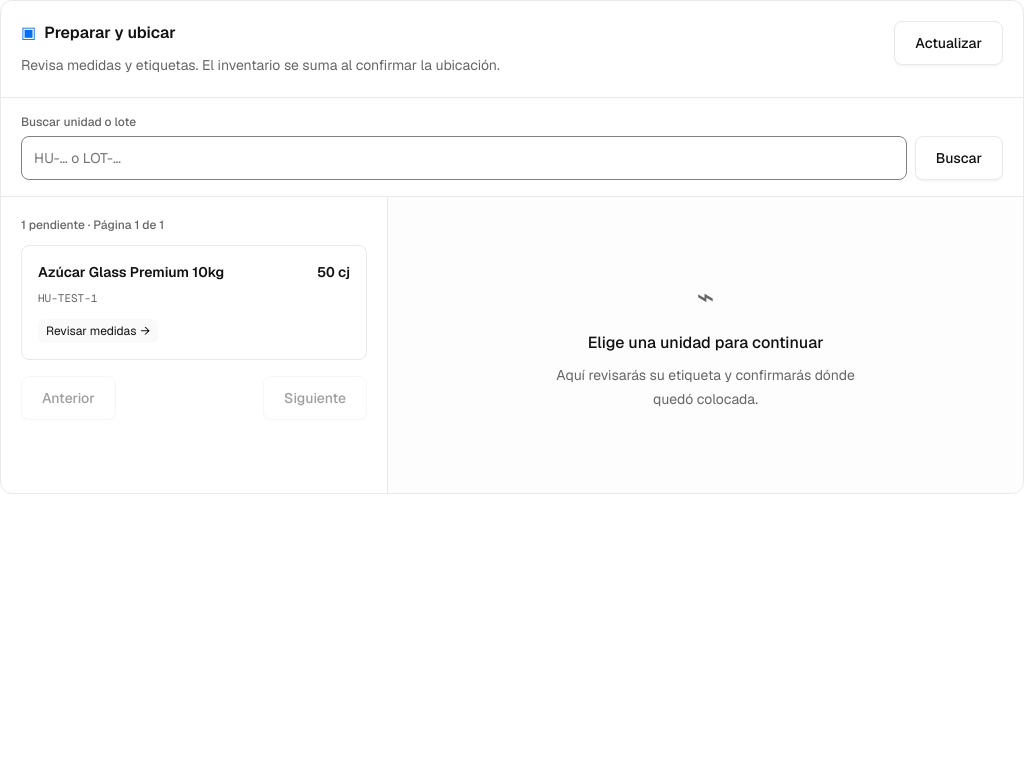
Test case: preparación del bodeguero › conserva el código automático al pasar de medidas a etiqueta
The width and height of the screenshot is (1024, 768).
Click the button "Azúcar Glass Premium 10kg 50 cj HU-TEST-1 Revisar medidas →": click(131, 272) [21,245,367,360]
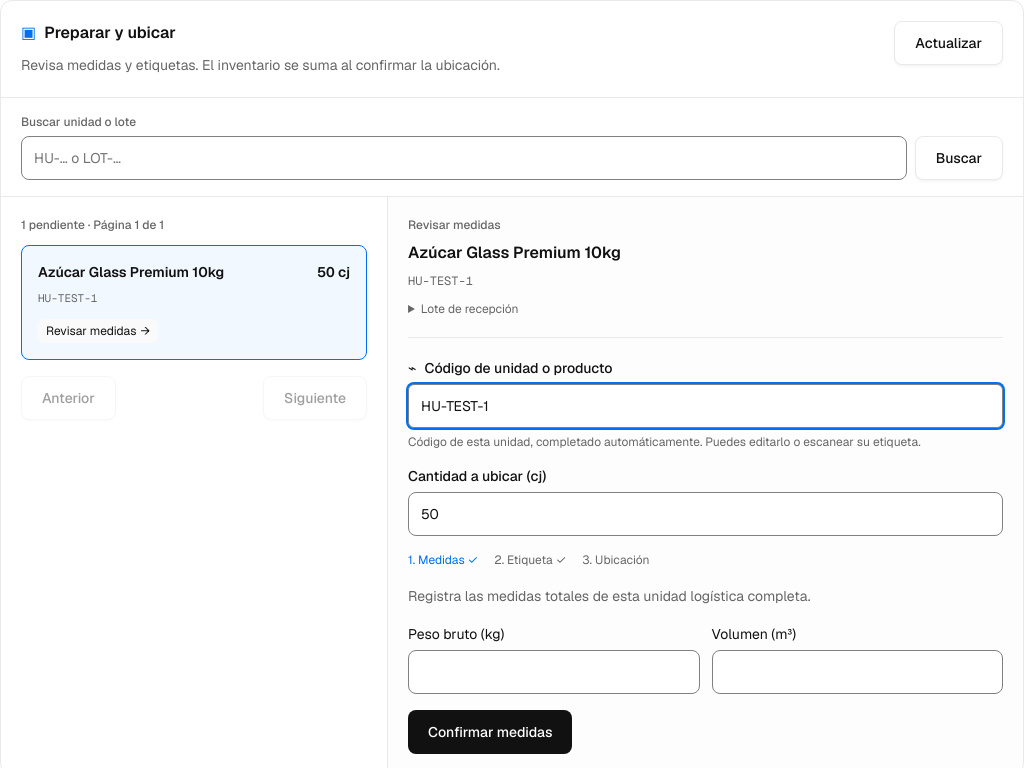
In the field labelled "Peso bruto (kg)": (554, 672) [408,650,700,694], type "10"
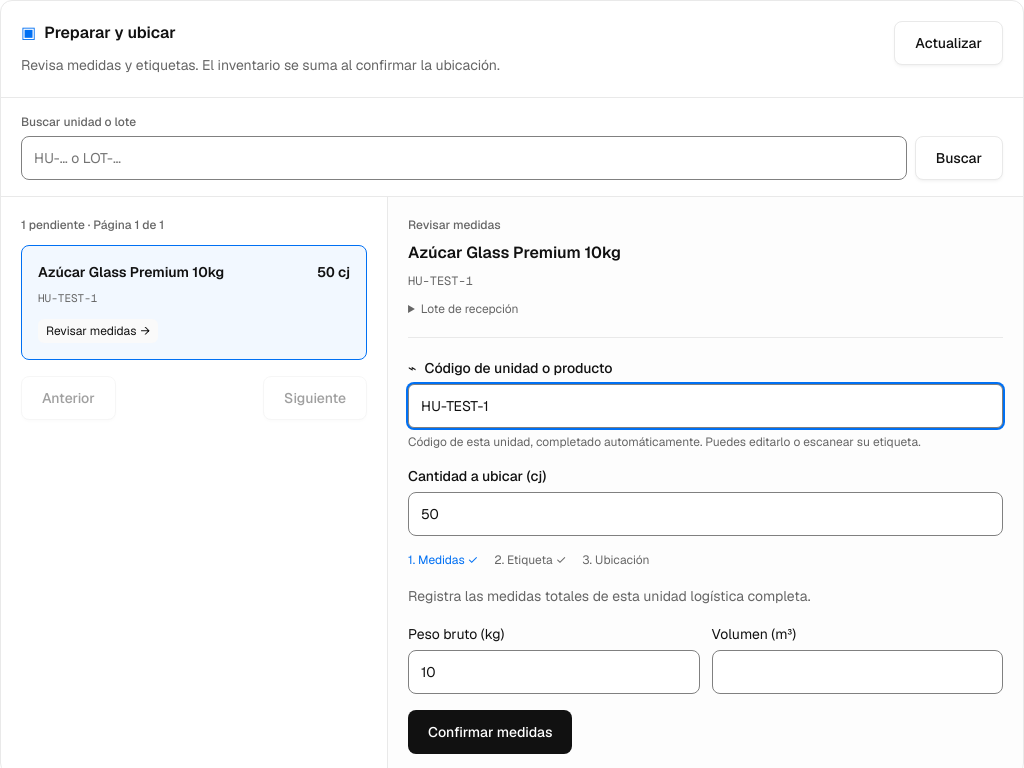
In the field labelled "Volumen (m³)": (857, 672) [712,650,1003,694], type "0.1"
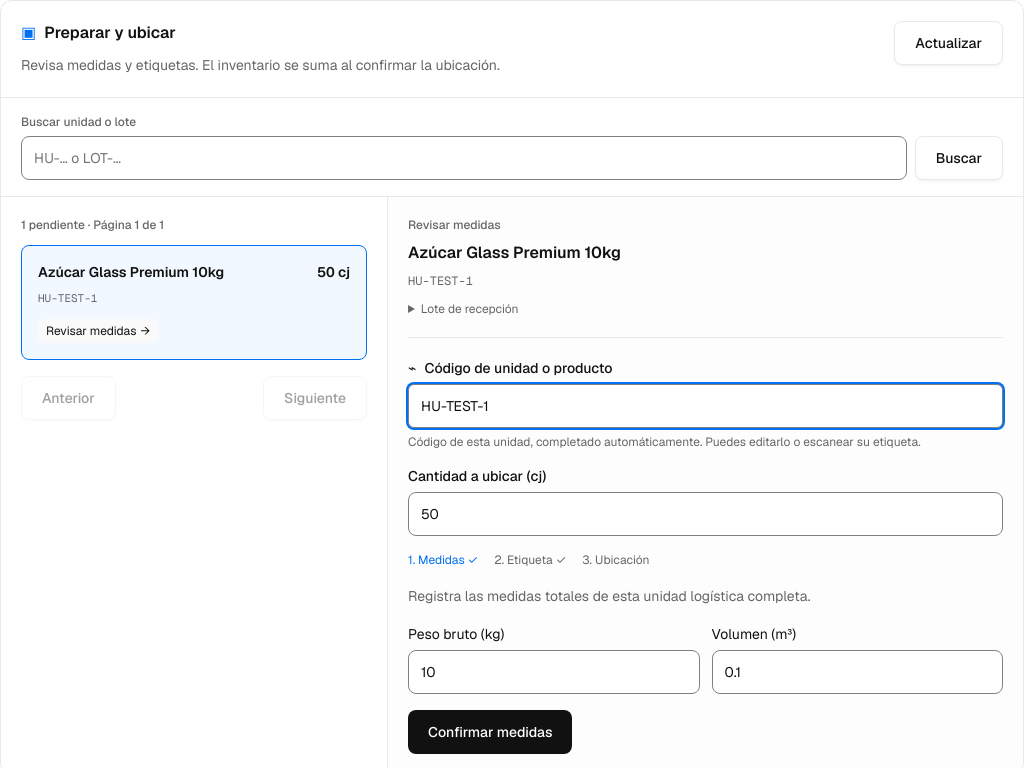
Click the button "Confirmar medidas": click(490, 732) [408,710,572,754]
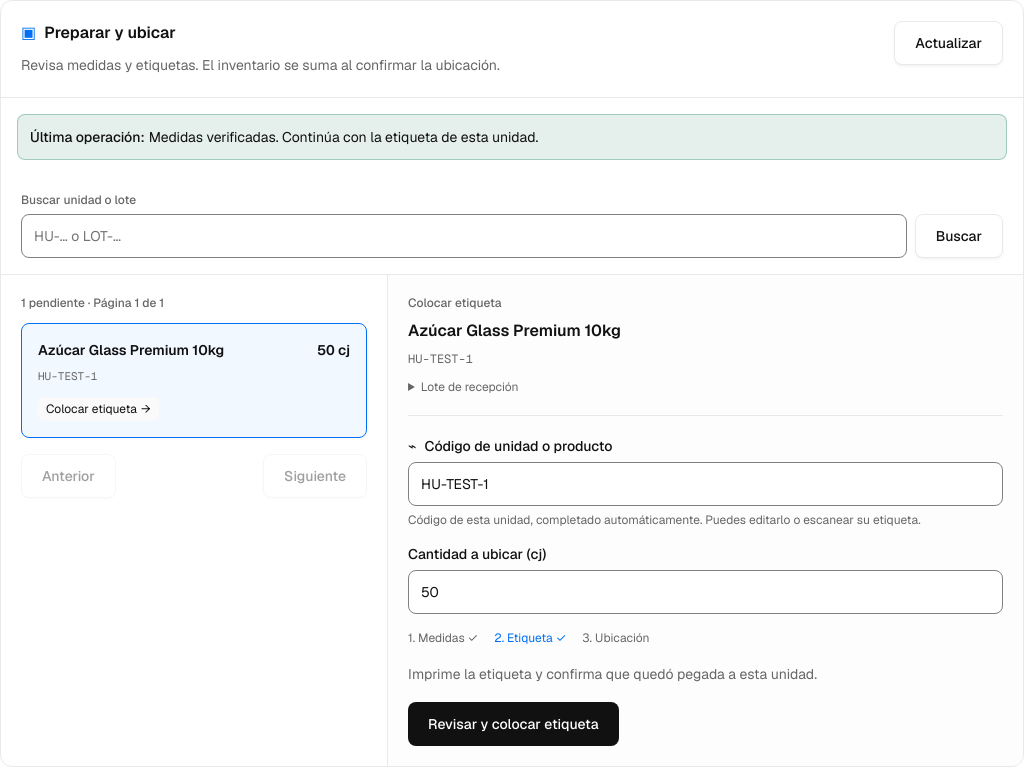
Expected: the field labelled "Código de unidad o producto" holds "HU-TEST-1", [408,462,1003,506]
Expected: the button "Revisar y colocar etiqueta" is shown, [408,702,619,746]
